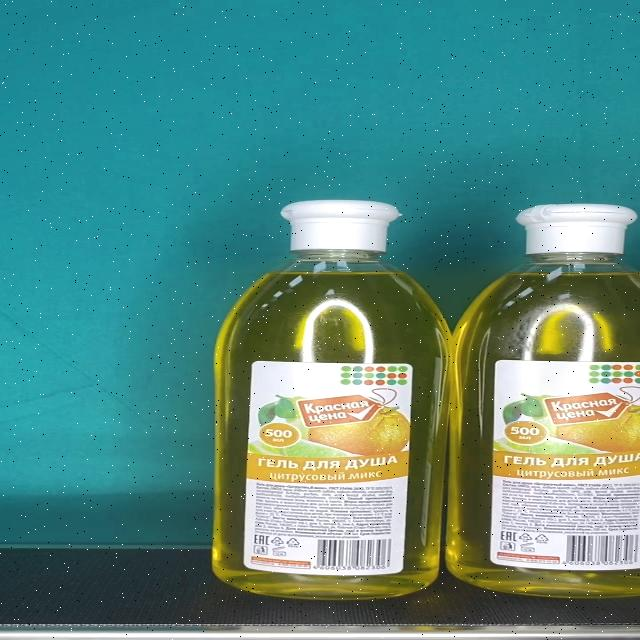Bottle: (210, 198, 450, 598), (452, 198, 640, 598)
Cap: (281, 200, 402, 251), (517, 203, 638, 254)
